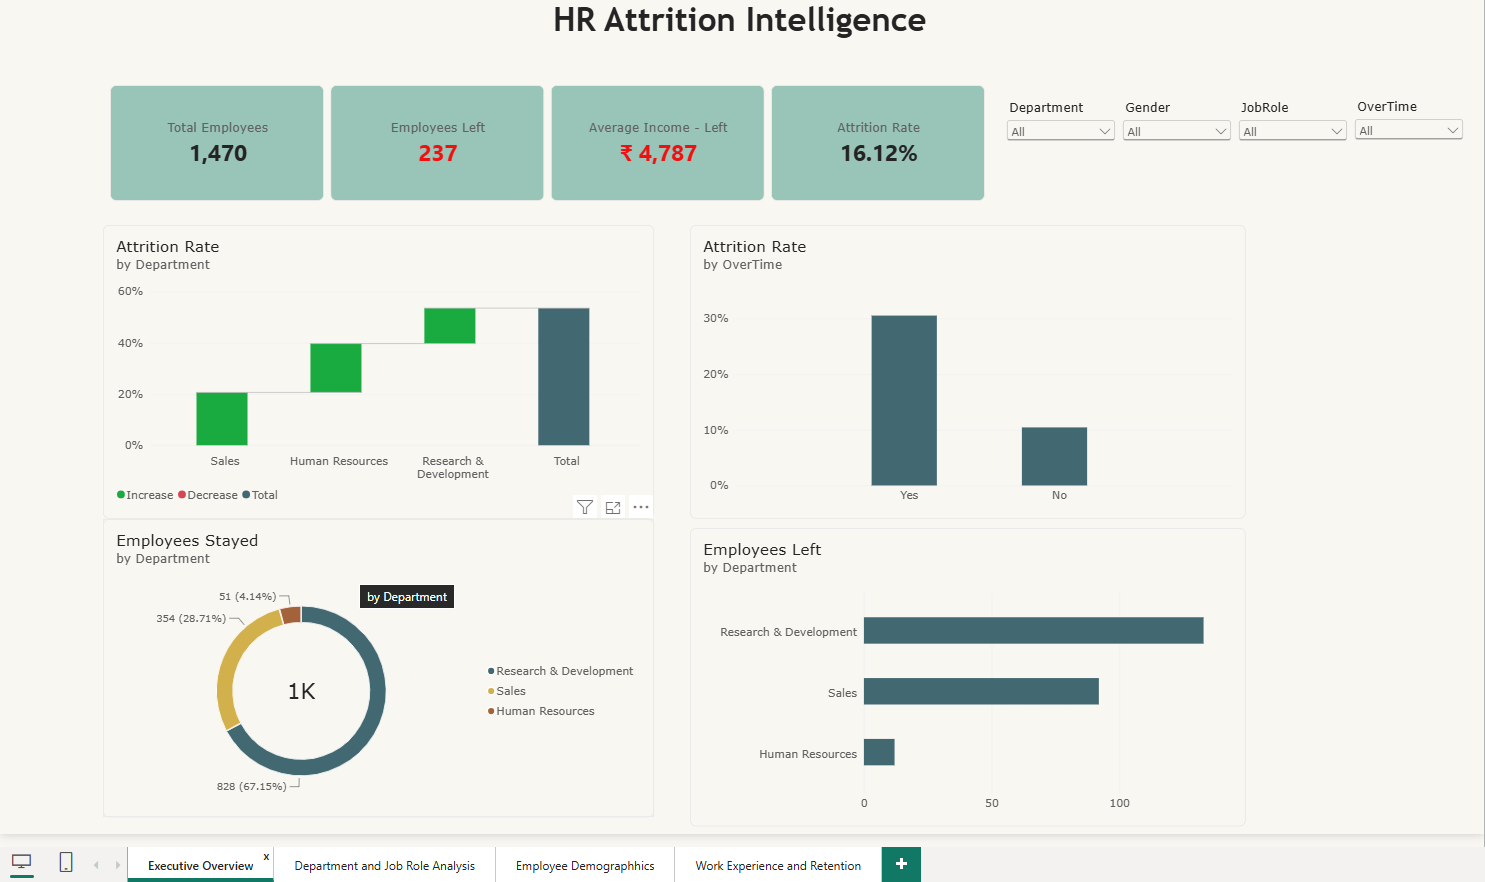

The dashboard page shown, as its layout file describes it:
{"tool":"powerbi","page":{"name":"Executive Overview","canvas":[1920,1080],"ordinal":0},"visuals":[{"type":"cardVisual","fields":{"Data":["Employees.Total Employees","Employees.Employees Left","Employees.Average Income - Left","Employees.Attrition Rate"]},"box":[142.9,110,1132.9,150],"z":0},{"type":"group","id":"g1","title":"Group 1","box":[1297.1,128.6,600,58.6],"z":0,"group":"g2"},{"type":"slicer","fields":{"Values":["Employees.Gender"]},"box":[1447.1,130,150,57.1],"z":1000,"group":"g2"},{"type":"waterfallChart","fields":{"Category":["Employees.Department"],"Y":["Employees.Attrition Rate"]},"box":[132.9,291.4,712.9,380],"z":1000},{"type":"clusteredBarChart","fields":{"Category":["Employees.Department"],"Y":["Employees.Employees Left"]},"box":[892.9,682.9,718.6,385.7],"z":2000},{"type":"clusteredColumnChart","fields":{"Category":["Employees.OverTime"],"Y":["Employees.Attrition Rate"]},"box":[892.9,291.4,718.6,380],"z":3000},{"type":"donutChart","fields":{"Category":["Employees.Department"],"Y":["Employees.Employees Stayed"]},"box":[133.3,671.7,712.9,385.7],"z":4000},{"type":"group","id":"g2","title":"Group 2","box":[1297.1,128.6,600,58.6],"z":5000},{"type":"slicer","fields":{"Values":["Employees.Department"]},"box":[1297.1,130,150,57.1],"z":5000,"group":"g1"},{"type":"textbox","box":[715.7,0,487.1,58.6],"z":7000},{"type":"slicer","fields":{"Values":["Employees.JobRole"]},"box":[1597.1,130,150,57.1],"z":7000,"group":"g1"},{"type":"slicer","fields":{"Values":["Employees.OverTime"]},"box":[1747.1,128.6,150,57.1],"z":8000,"group":"g1"}]}

Visuals, with their boxes on the page's 1920x1080 design canvas (x1, y1, x2, y2). These are canvas units, not pixel positions in the 1485x882 screenshot, which may show the page scaled, cropped or inside an application window:
cardVisual - Employees.Total Employees x Employees.Employees Left: locate(143, 110, 1276, 260)
"Group 1" group: locate(1297, 129, 1897, 187)
slicer - Employees.Gender: locate(1447, 130, 1597, 187)
waterfallChart - Employees.Department x Employees.Attrition Rate: locate(133, 291, 846, 671)
clusteredBarChart - Employees.Department x Employees.Employees Left: locate(893, 683, 1612, 1069)
clusteredColumnChart - Employees.OverTime x Employees.Attrition Rate: locate(893, 291, 1612, 671)
donutChart - Employees.Department x Employees.Employees Stayed: locate(133, 672, 846, 1057)
"Group 2" group: locate(1297, 129, 1897, 187)
slicer - Employees.Department: locate(1297, 130, 1447, 187)
textbox: locate(716, 0, 1203, 59)
slicer - Employees.JobRole: locate(1597, 130, 1747, 187)
slicer - Employees.OverTime: locate(1747, 129, 1897, 186)
